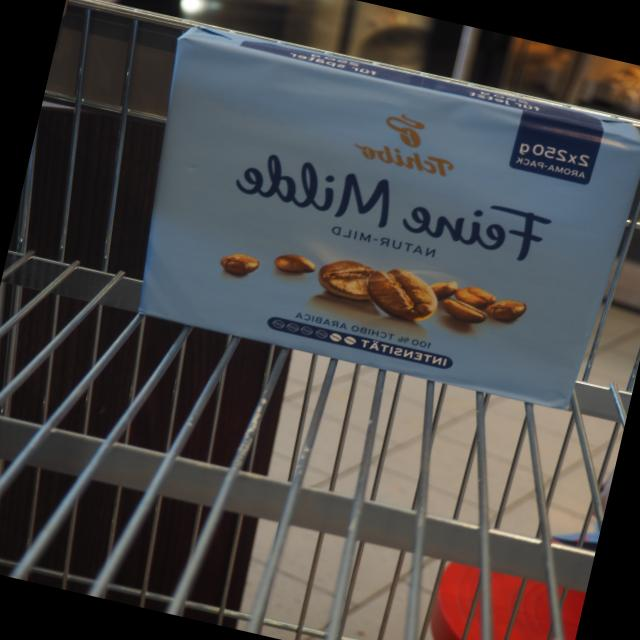FM Gemahlen: (105, 13, 640, 425)
